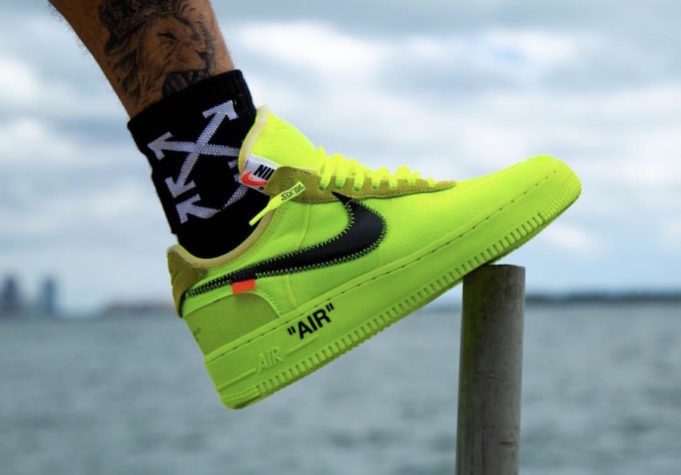Air Force One Volt: (152, 77, 591, 417)
